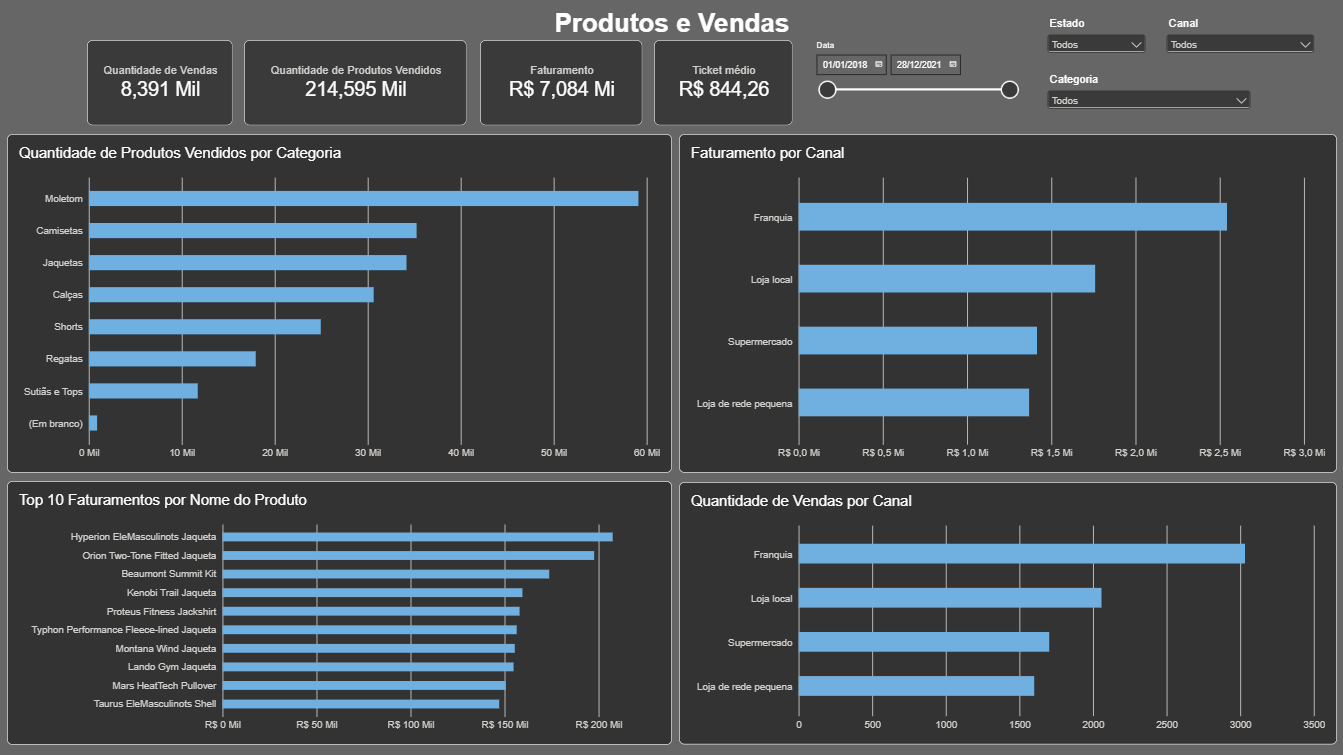

What the dashboard file says about the page in this screenshot:
{"tool":"powerbi","page":{"name":"Produtos e Vendas","canvas":[1920,1080],"ordinal":1},"visuals":[{"type":"textbox","box":[10,0,280,280],"z":0},{"type":"textbox","box":[0,11.4,1920,45.7],"z":1000},{"type":"cardVisual","fields":{"Data":["Vendas.Quantidade de Vendas"]},"box":[124.3,57.1,208.6,122.9],"z":2000},{"type":"cardVisual","fields":{"Data":["Vendas.Quantidade de Produtos Vendidos"]},"box":[348.6,57.1,318.6,122.9],"z":3000},{"type":"cardVisual","fields":{"Data":["Vendas.Faturamento"]},"box":[685.7,57.1,232.9,122.9],"z":4000},{"type":"cardVisual","fields":{"Data":["Vendas.Ticket médio"]},"box":[934.3,57.1,198.6,122.9],"z":5000},{"type":"barChart","title":"Quantidade de Produtos Vendidos por Categoria","fields":{"Category":["Produtos.Produto_Categoria"],"Y":["Vendas.Quantidade de Produtos Vendidos"]},"box":[10,191.4,950,484.3],"z":6000},{"type":"barChart","title":"Faturamento por Canal","fields":{"Category":["Lojas.Loja_canal"],"Y":["Vendas.Faturamento"]},"box":[970,191.4,940,484.3],"z":7000},{"type":"barChart","title":"Top 10 Faturamentos por Nome do Produto","fields":{"Category":["Produtos.Produto Nome"],"Y":["Vendas.Faturamento"]},"box":[10,687.1,950,377.1],"z":8000},{"type":"barChart","title":"Quantidade de Vendas por Canal","fields":{"Category":["Lojas.Loja_canal"],"Y":["Vendas.Quantidade de Vendas"]},"box":[970,688.6,940,375],"z":9000},{"type":"slicer","fields":{"Values":["Calendário.Date"]},"box":[1158.6,57.1,300,110],"z":10000},{"type":"slicer","fields":{"Values":["Lojas.Estado"]},"box":[1491.4,24.3,150,80],"z":11000},{"type":"slicer","fields":{"Values":["Produtos.Produto_Categoria"]},"box":[1491.4,104.3,300,71.4],"z":12000},{"type":"slicer","fields":{"Values":["Lojas.Loja_canal"]},"box":[1661.4,24.3,221.4,84.3],"z":13000}]}

Visuals, with their boxes in screenshot pixels (x1, y1, x2, y2), scaled from the page's 1920x1080 canvas onto the 1343x755 screenshot:
textbox: <bbox>7, 0, 203, 196</bbox>
textbox: <bbox>0, 8, 1342, 40</bbox>
cardVisual - Vendas.Quantidade de Vendas: <bbox>87, 40, 233, 126</bbox>
cardVisual - Vendas.Quantidade de Produtos Vendidos: <bbox>244, 40, 467, 126</bbox>
cardVisual - Vendas.Faturamento: <bbox>480, 40, 643, 126</bbox>
cardVisual - Vendas.Ticket médio: <bbox>654, 40, 792, 126</bbox>
"Quantidade de Produtos Vendidos por Categoria" barChart: <bbox>7, 134, 672, 472</bbox>
"Faturamento por Canal" barChart: <bbox>678, 134, 1336, 472</bbox>
"Top 10 Faturamentos por Nome do Produto" barChart: <bbox>7, 480, 672, 744</bbox>
"Quantidade de Vendas por Canal" barChart: <bbox>678, 481, 1336, 744</bbox>
slicer - Calendário.Date: <bbox>810, 40, 1020, 117</bbox>
slicer - Lojas.Estado: <bbox>1043, 17, 1148, 73</bbox>
slicer - Produtos.Produto_Categoria: <bbox>1043, 73, 1253, 123</bbox>
slicer - Lojas.Loja_canal: <bbox>1162, 17, 1317, 76</bbox>
